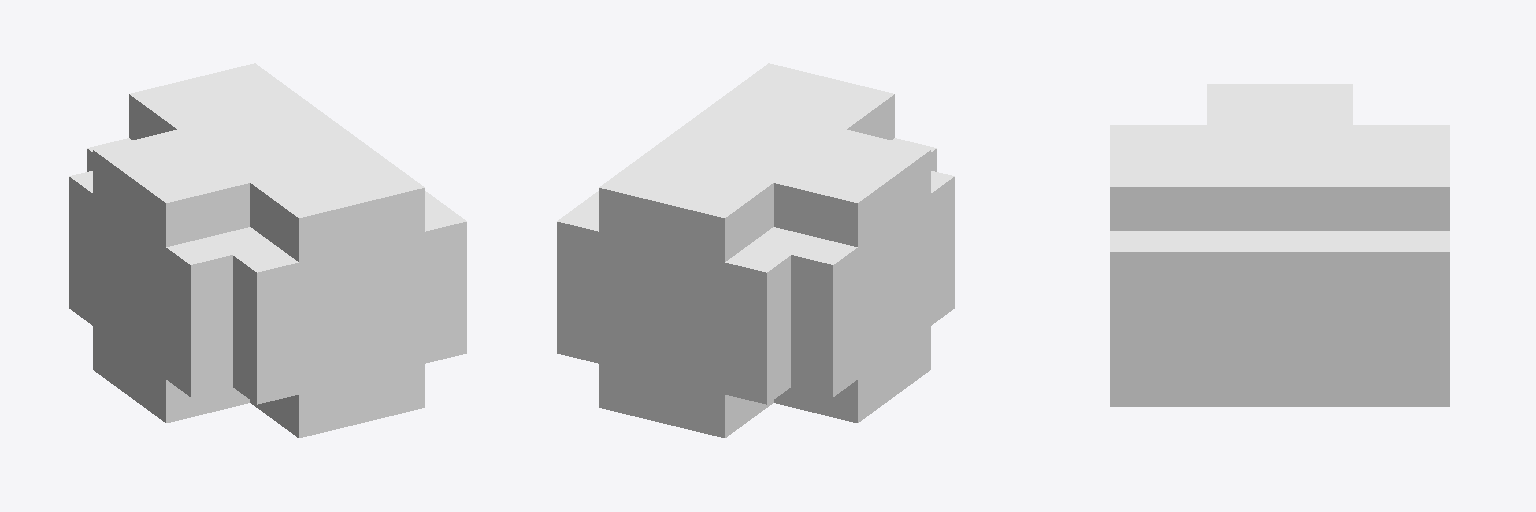
Rendered from pipe_T_turn.obj.
The picture shows the model from 3 angles: view 1: azimuth 30°, elevation 25°; view 2: azimuth 150°, elevation 25°; view 3: azimuth 270°, elevation 25°; orthographic projection.
Parts seen in each view (by area): view 1: pipe_T_turn; view 2: pipe_T_turn; view 3: pipe_T_turn.
Boxes of the visible parts, box(x1,y1,x2,y2) form: pipe_T_turn: box(69, 63, 466, 437); pipe_T_turn: box(557, 63, 954, 437); pipe_T_turn: box(1110, 84, 1449, 406).
Bounding box in the file's own units: 6 × 5 × 7.